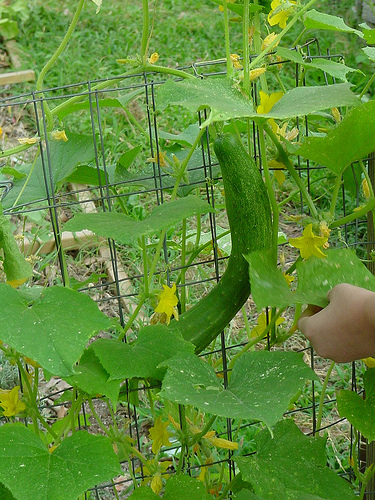cucumber: (160, 125, 276, 352)
